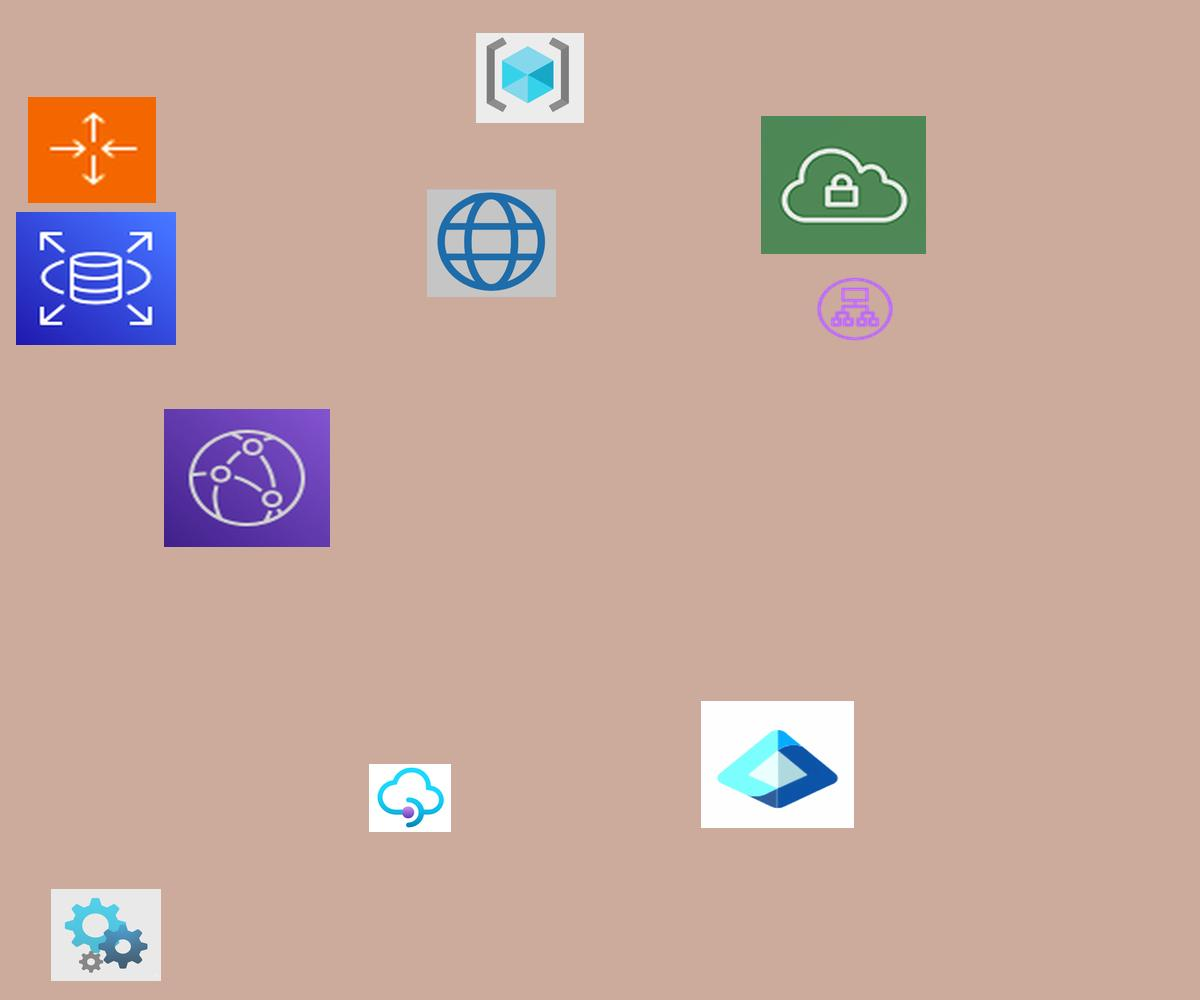AWS-CloudFront: (164, 409, 330, 547)
AWS-Private_vpc: (761, 116, 926, 254)
AWS-RDS: (16, 212, 176, 345)
AWS-Res_Elastic-Load-Balancing_Application-Load-Balancer: (814, 275, 896, 343)
AWS-Scaling-group: (28, 97, 156, 203)
Azure_api: (51, 889, 161, 981)
Azure_api_gateway: (369, 764, 451, 832)
Azure_http: (427, 189, 556, 297)
Azure_microsoft_entra: (701, 701, 854, 828)
Azure_resource_group: (476, 33, 584, 123)
